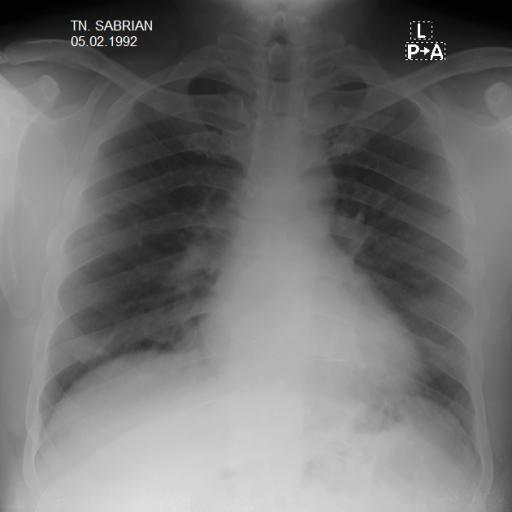kardiomegali: (27, 24, 492, 460)
